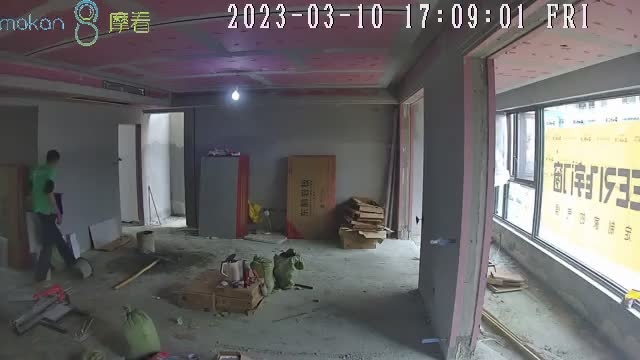people: (27, 150, 78, 280)
window: (492, 89, 640, 305)
